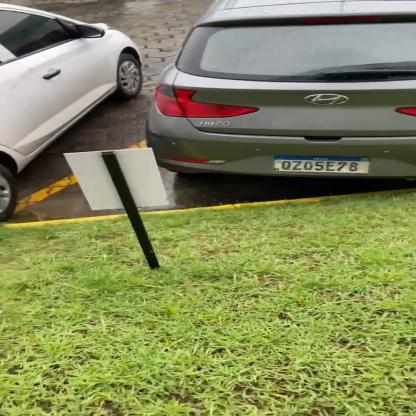Plate: (274, 151, 376, 178)
